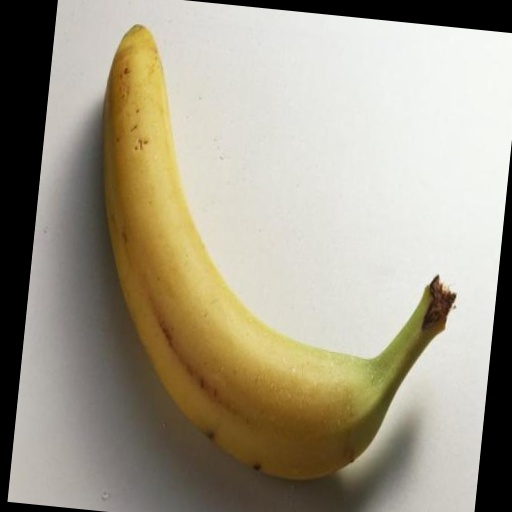fruit: (103, 26, 454, 478)
